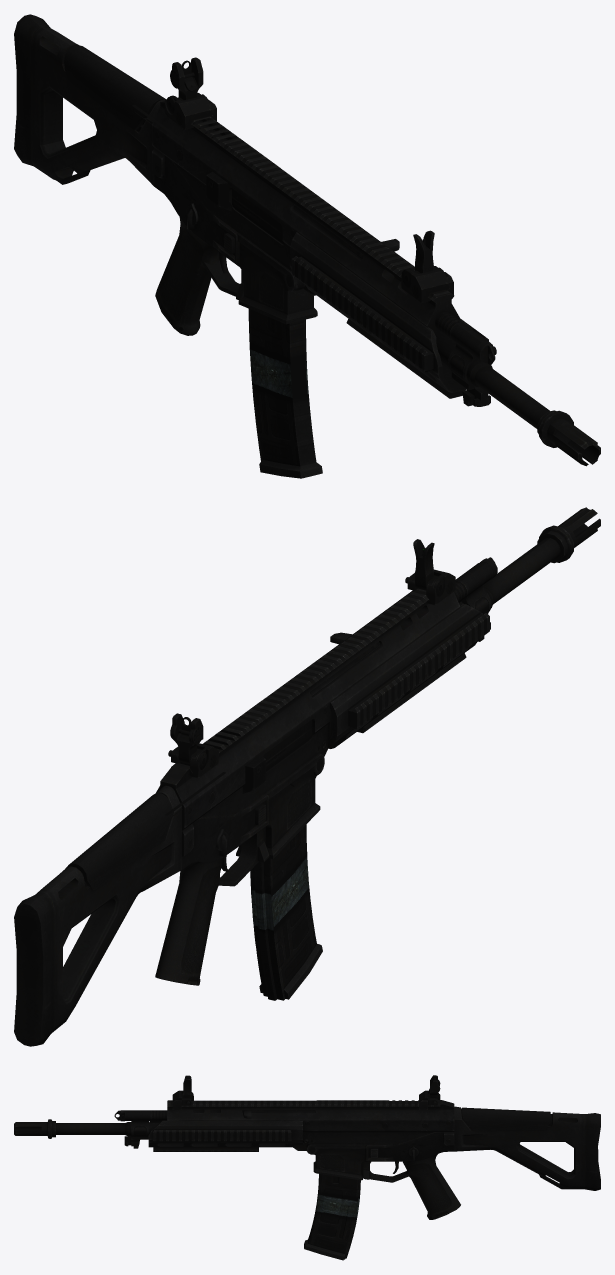
Rendered from acr.obj.
The picture shows the model from 3 angles, top to bottom: view 1: azimuth 30°, elevation 25°; view 2: azimuth 150°, elevation 25°; view 3: azimuth 270°, elevation 25°; orthographic projection. The views are drawn at different scales.
Visible parts, largest first — view 1: Mesh_0004_Mesh, MAG_Mesh.001, Mesh_0007_Mesh.006; view 2: Mesh_0004_Mesh, MAG_Mesh.001, Mesh_0007_Mesh.006; view 3: Mesh_0004_Mesh, MAG_Mesh.001, Mesh_0007_Mesh.006.
Part boxes in pixels (bbox=[...]): Mesh_0004_Mesh: bbox=[14, 14, 600, 466]; MAG_Mesh.001: bbox=[248, 309, 322, 478]; Mesh_0007_Mesh.006: bbox=[164, 57, 453, 302]; Mesh_0004_Mesh: bbox=[14, 507, 600, 1046]; MAG_Mesh.001: bbox=[250, 824, 322, 1000]; Mesh_0007_Mesh.006: bbox=[168, 539, 455, 778]; Mesh_0004_Mesh: bbox=[14, 1100, 600, 1219]; MAG_Mesh.001: bbox=[304, 1174, 360, 1260]; Mesh_0007_Mesh.006: bbox=[172, 1075, 440, 1109].
Bounding box in the file's own units: 0.1541 × 0.7749 × 2.29.
